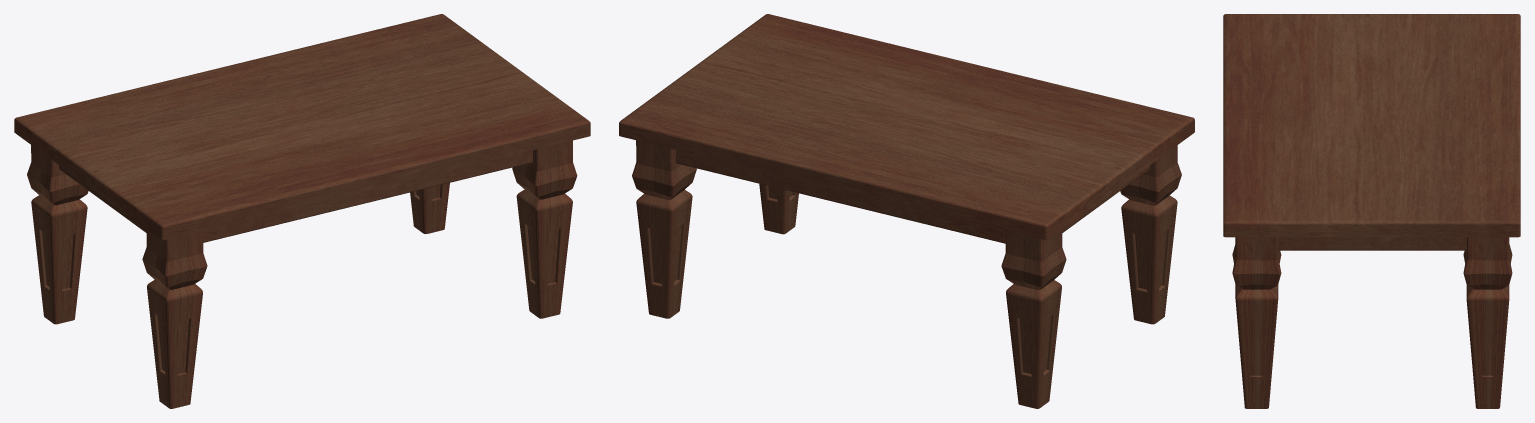
The model's file is Table.fbx.
3 views of the same model, side by side, from view 1: azimuth 30°, elevation 25°; view 2: azimuth 150°, elevation 25°; view 3: azimuth 270°, elevation 25° (orthographic).
Visible parts, largest first — view 1: Table; view 2: Table; view 3: Table.
Part boxes in pixels (left/top/right/bottom): Table: left=14, top=14, right=590, bottom=408; Table: left=619, top=14, right=1194, bottom=408; Table: left=1223, top=14, right=1520, bottom=408.
Bounding box in the file's own units: 150 × 65.5 × 90.
